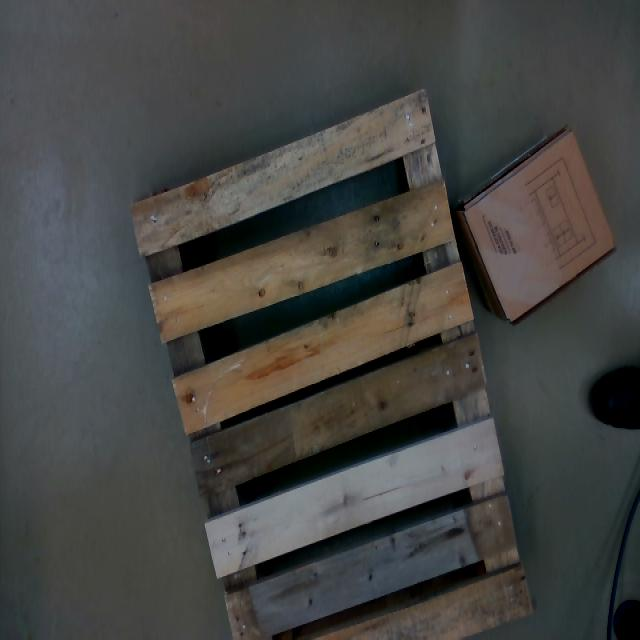pallet: (128, 91, 534, 640)
